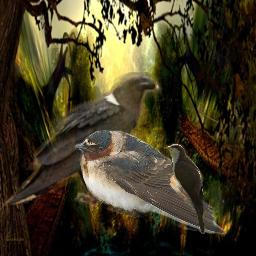Crow: (3, 72, 162, 212)
Cuckoo: (162, 143, 207, 235)
Swallow: (75, 130, 227, 234)
